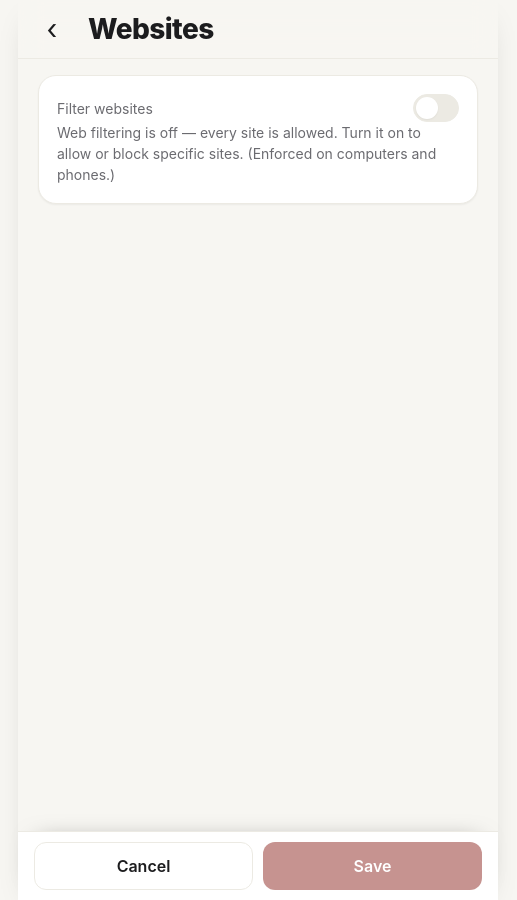
Test: rule editors as pages › in the app shell › does not ask when nothing has changed
Click the button "‹". click: (52, 29)
box: [28,5,76,53]
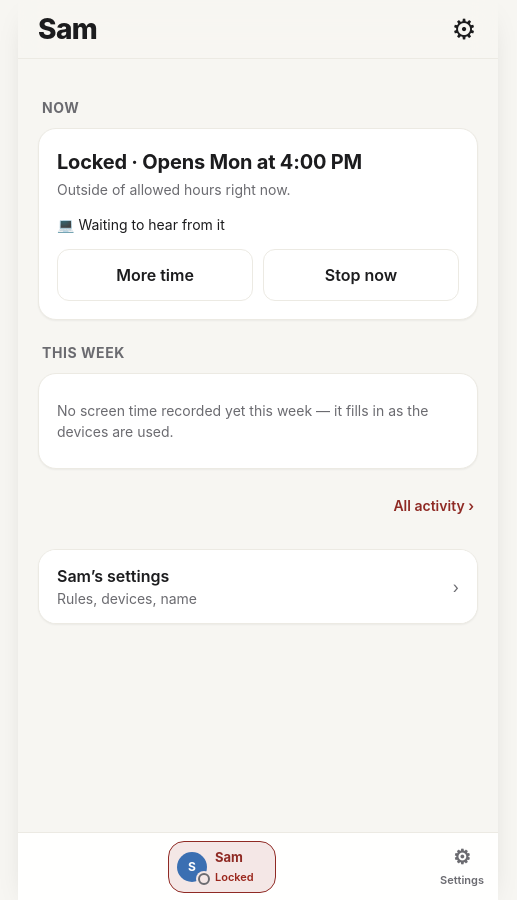
expect the heading "Sam" is shown: met, box [38,12,97,46]
